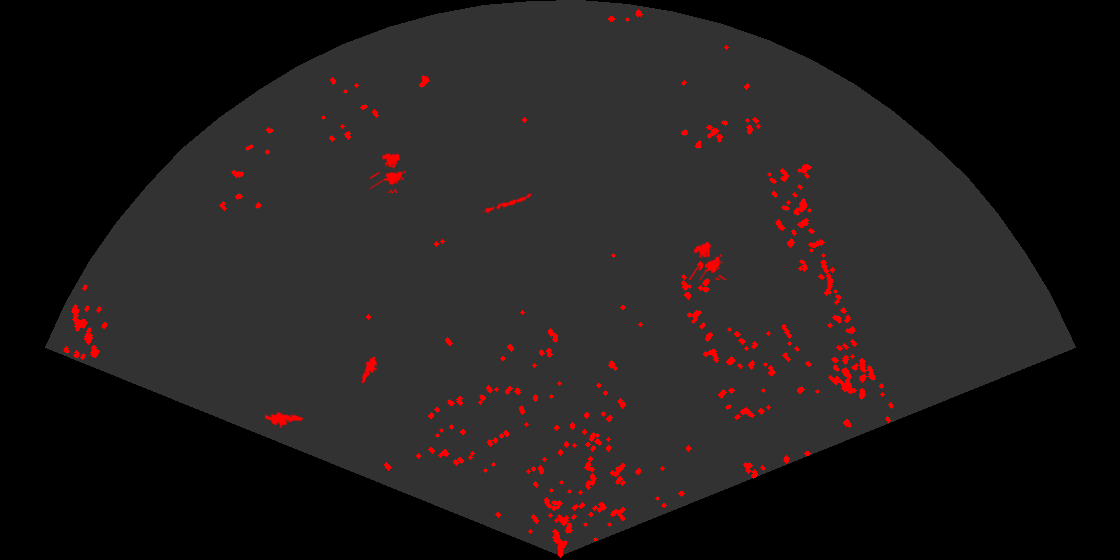cage: (687, 240, 728, 280), (370, 152, 407, 193)
chain: (482, 192, 534, 215)
frogman: (265, 410, 304, 429), (360, 357, 379, 384)
